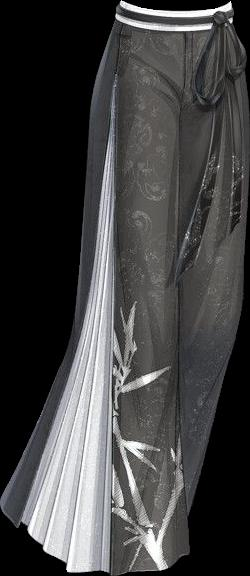Hemline: (0, 73, 192, 575), (0, 497, 194, 575)
Pantleg: (0, 1, 189, 575), (179, 5, 249, 520)
Waistline: (111, 17, 236, 37), (121, 0, 233, 16)
